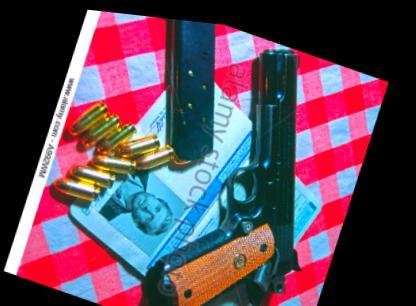pistol: (140, 14, 370, 303)
